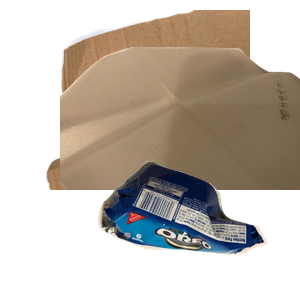cardboard: (43, 10, 283, 190)
glass: (37, 120, 231, 300)
plastic: (60, 44, 300, 224)
trash: (95, 158, 300, 300)
